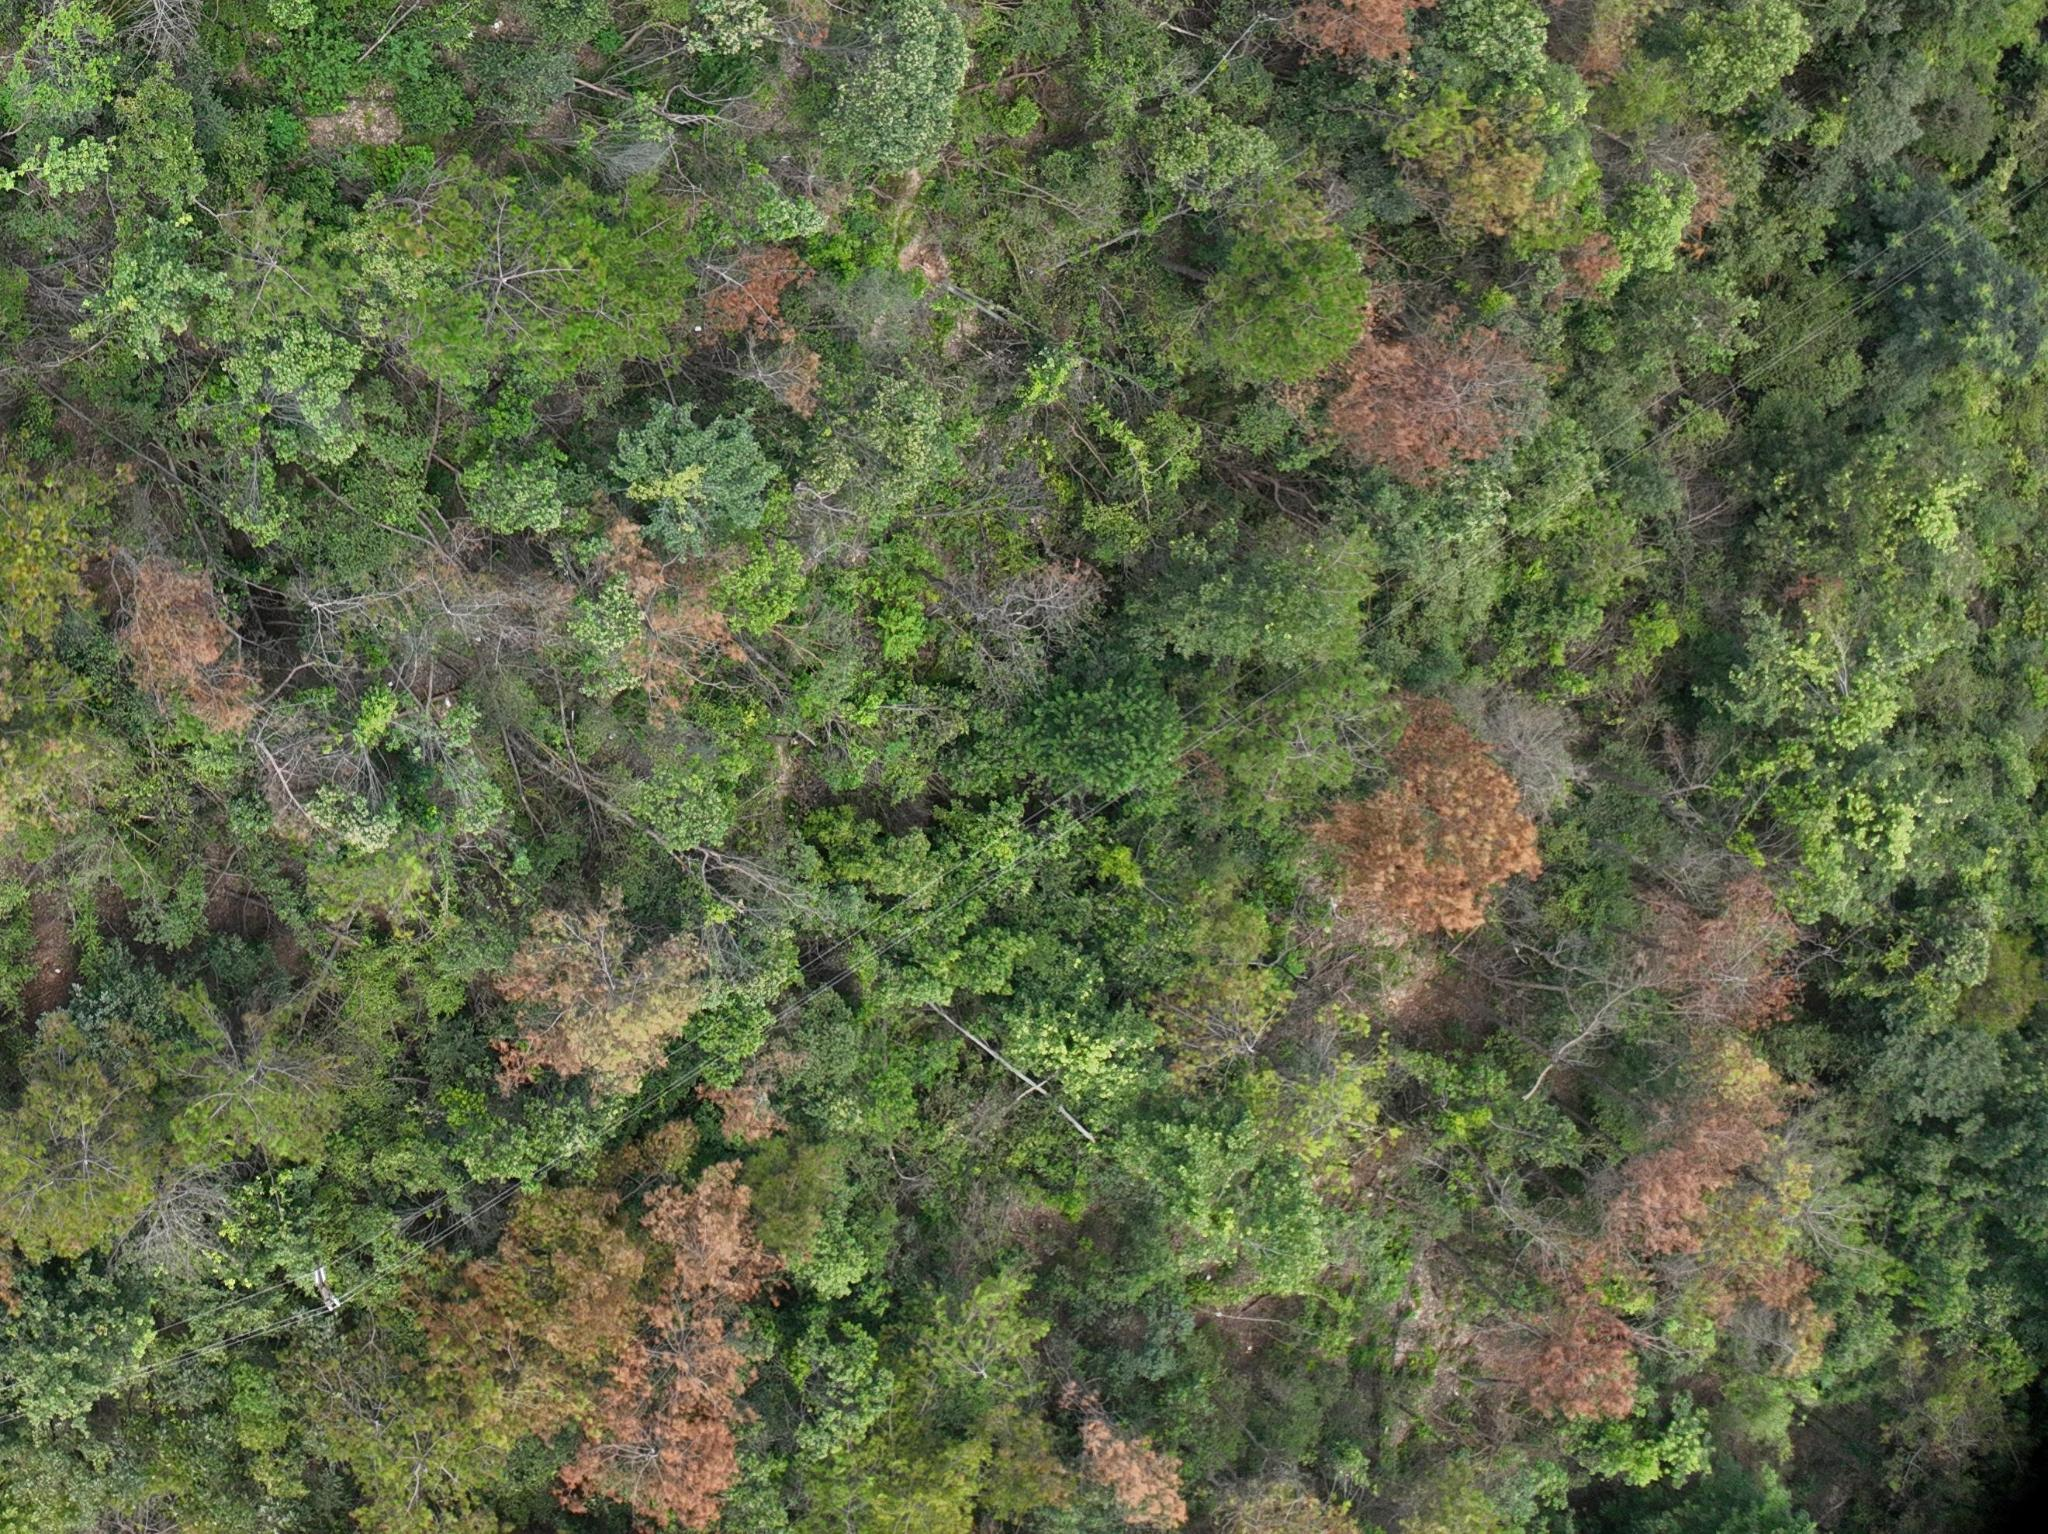heavy: (411, 1162, 752, 1524), (1473, 1062, 1798, 1426), (1323, 699, 1537, 938), (480, 901, 690, 1101), (1318, 313, 1519, 493), (1626, 852, 1819, 1033), (111, 537, 232, 723), (690, 243, 809, 393), (1059, 1399, 1183, 1528), (1284, 8, 1412, 71)
light: (1399, 89, 1616, 266)
